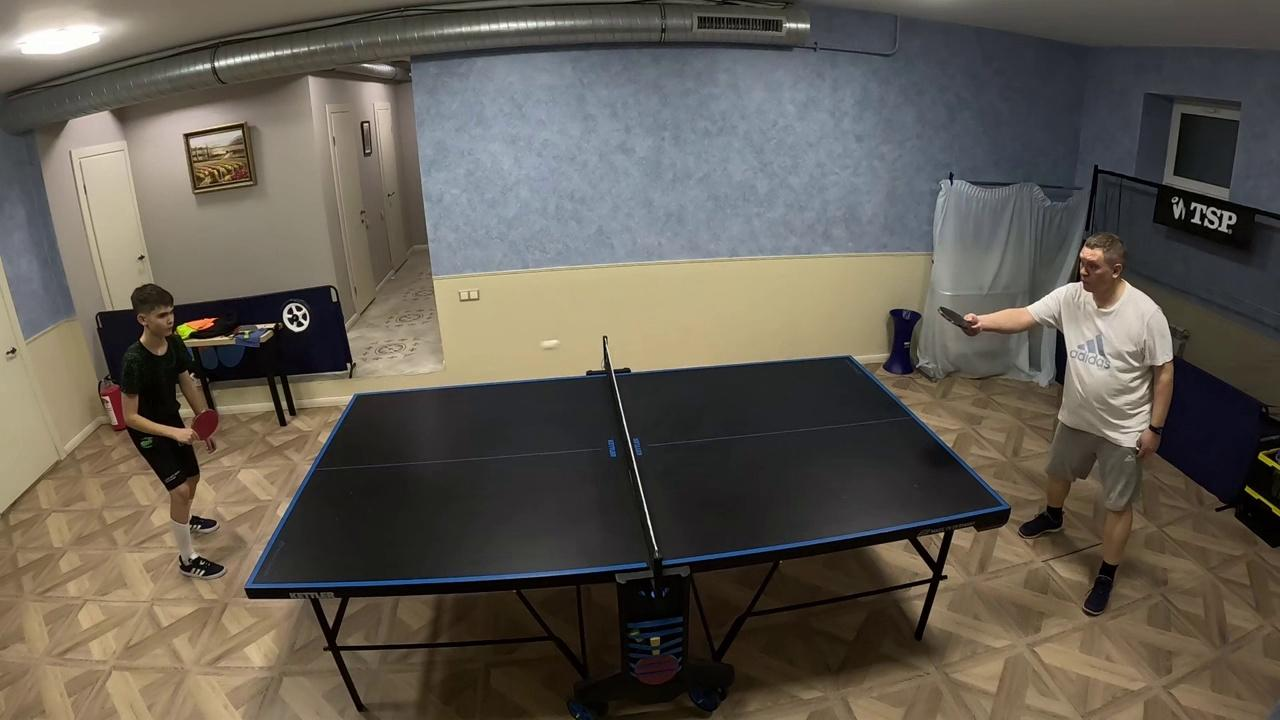Ball: (540, 338, 560, 351)
Net: (602, 335, 663, 587)
Player1: (118, 283, 224, 578)
Player2: (959, 233, 1173, 579)
Table: (247, 372, 652, 597), (615, 356, 1009, 570)
